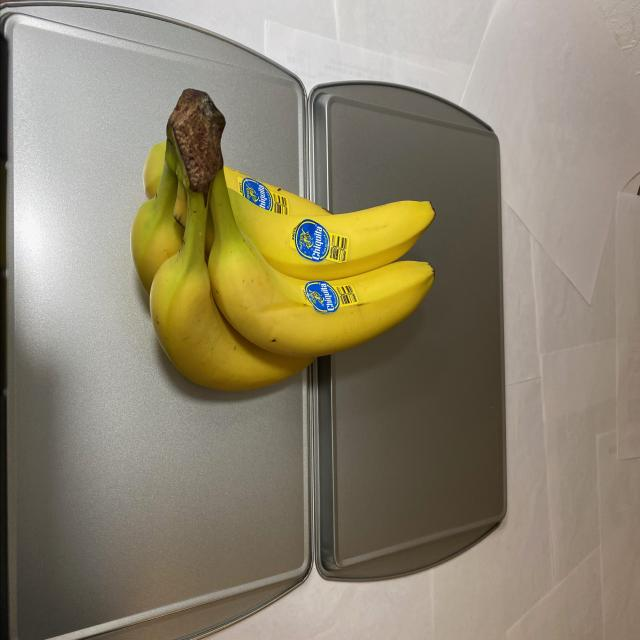banana: (133, 85, 440, 398)
